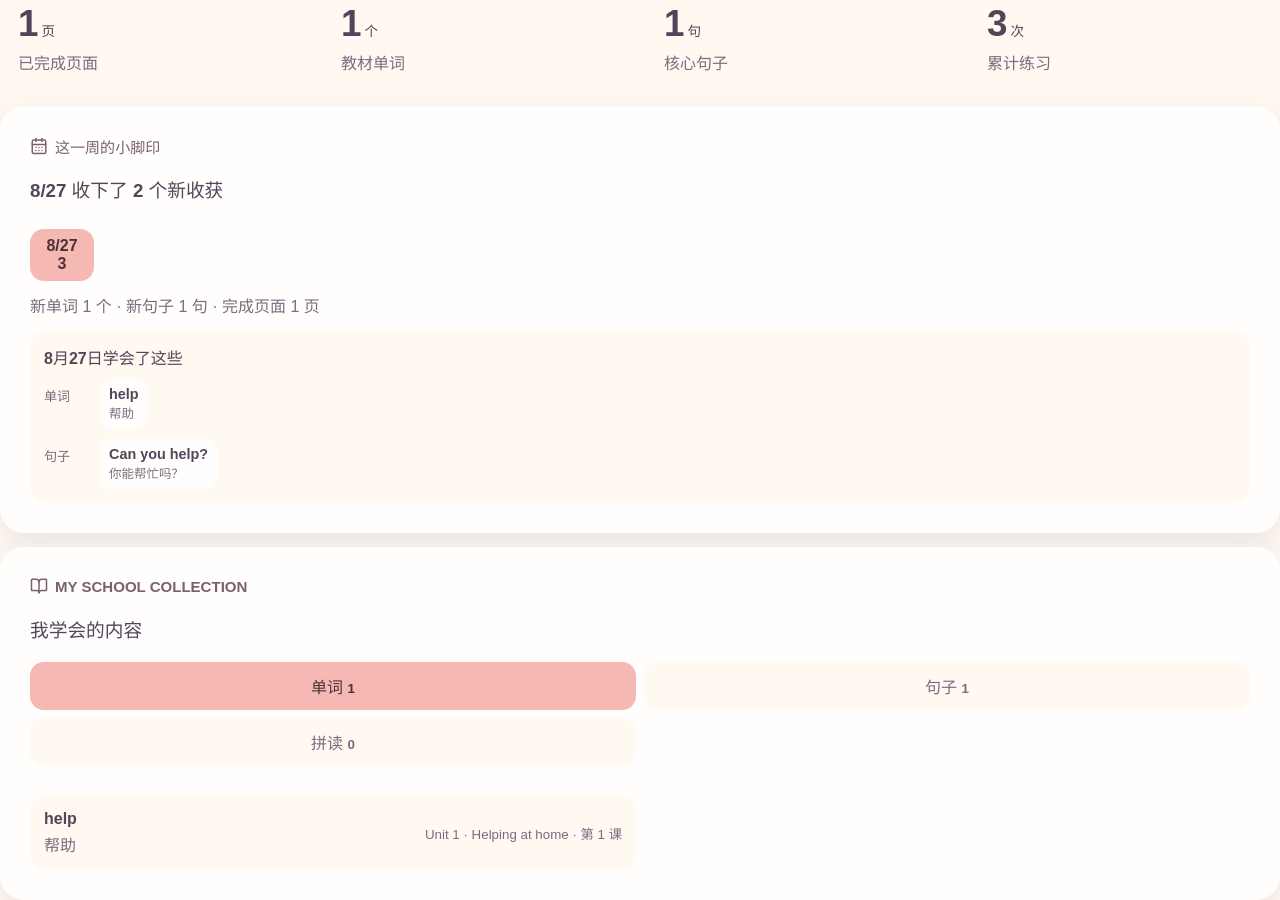
Test: DualTrackGrowth › lets school learning be viewed by vocabulary and sentences
The width and height of the screenshot is (1280, 900).
(page scrolled)
Expected: the text "help" below "我学会的内容" is shown, [44,810,77,827]
Click the tab "句子 1" at (947, 686), box [644,662,1250,710]
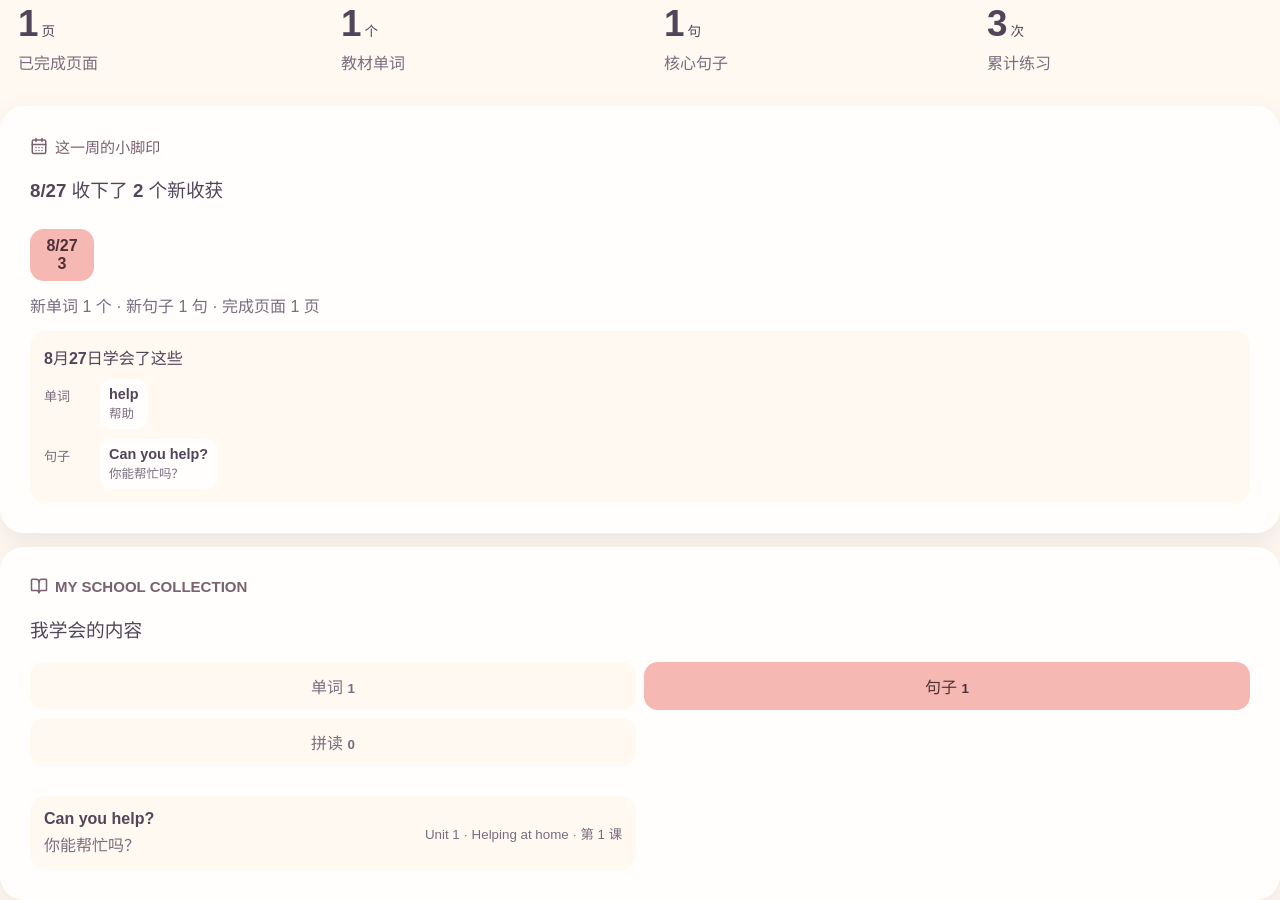
Expected: the text "Can you help?" below "我学会的内容" is shown, [44,810,154,827]
